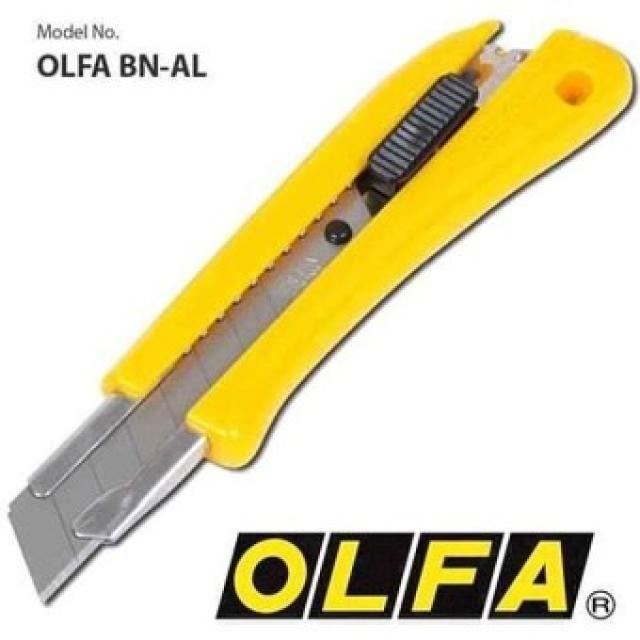cutter: (7, 18, 613, 612)
